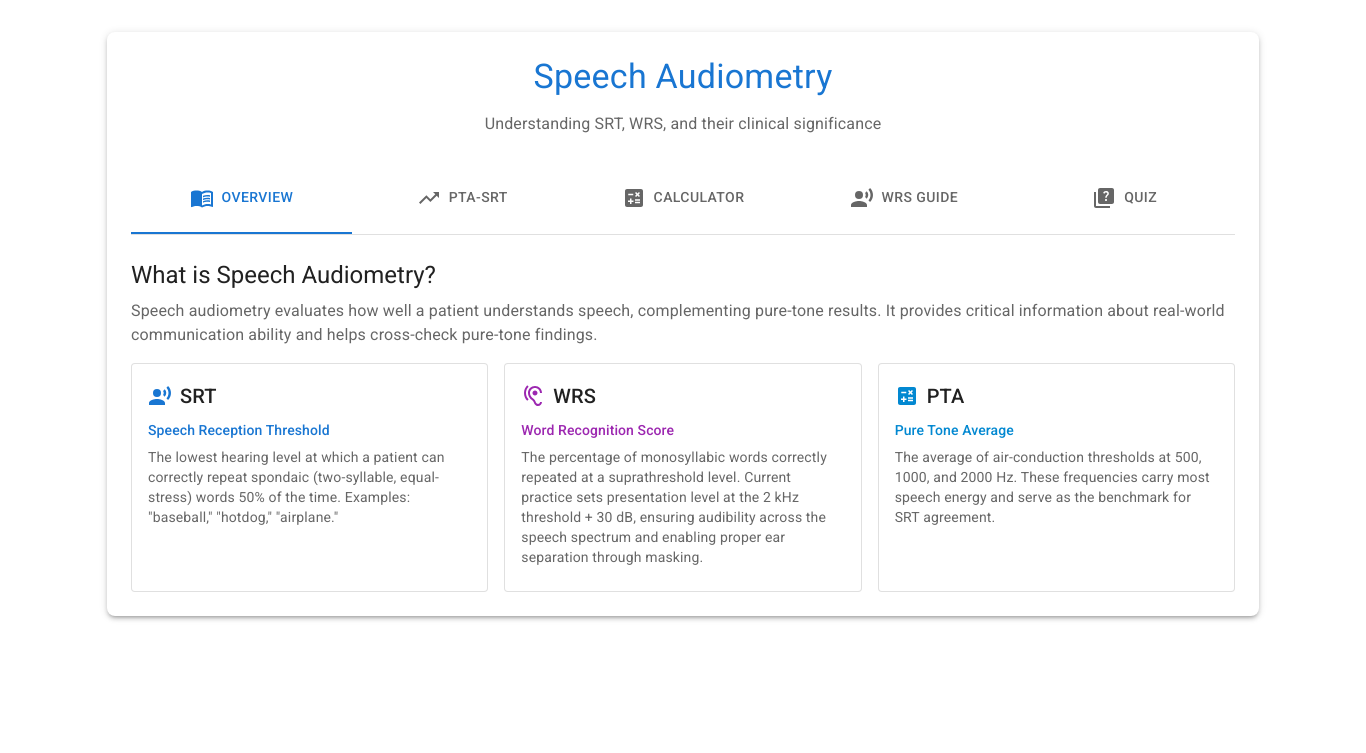
Scenario: Speech Audiometry Page › switches tabs on click
Click the tab "WRS Guide" at (904, 198), box [793, 162, 1014, 234]
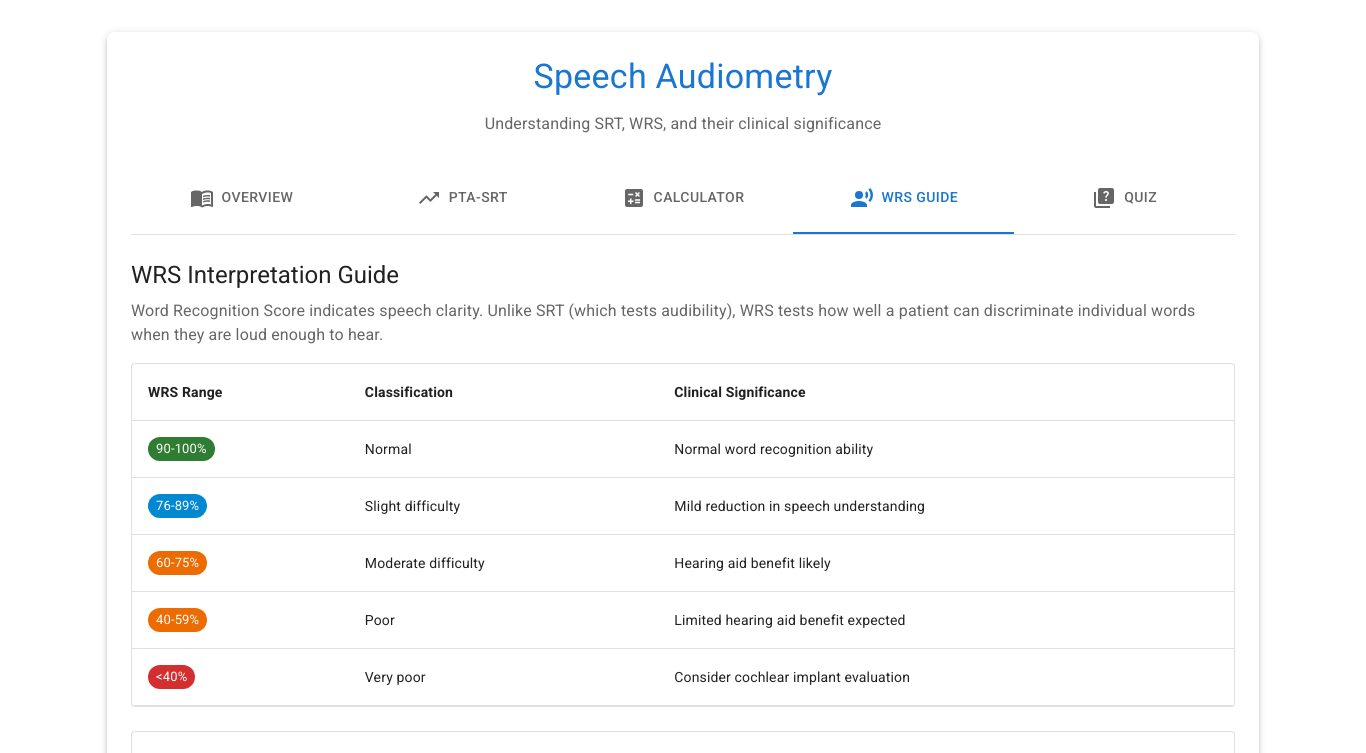
Result: the heading "WRS Interpretation Guide" is shown at [131, 261, 399, 289]
